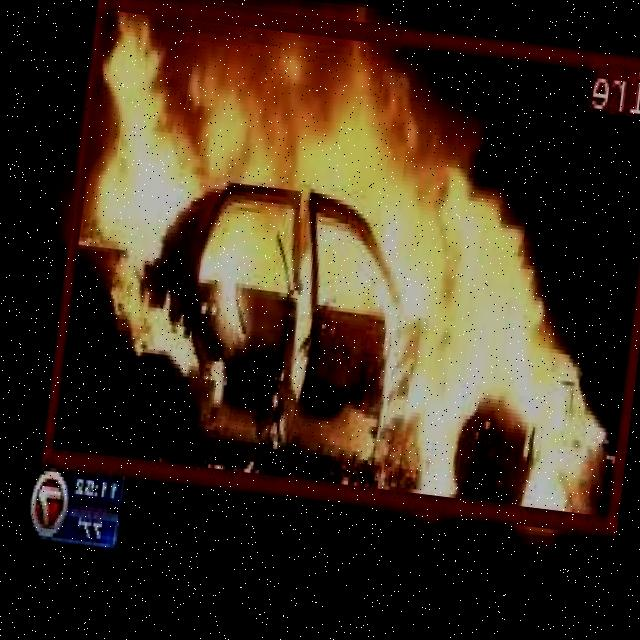fire: (42, 0, 640, 531)
